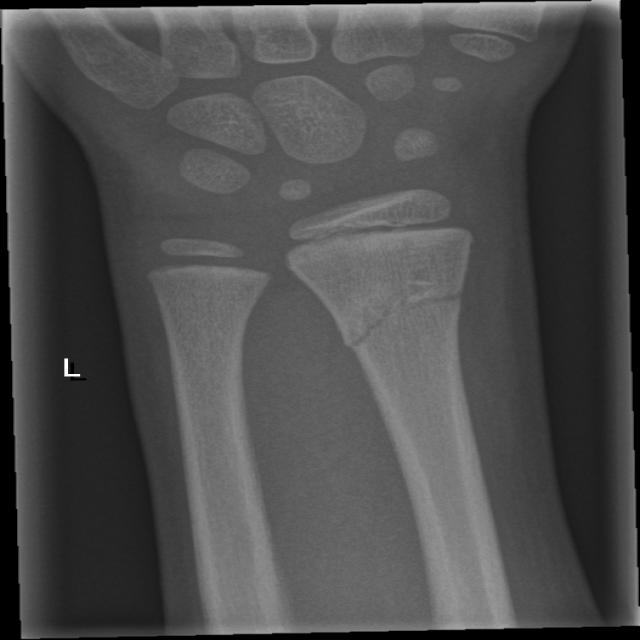radius fracture: (316, 265, 514, 424)
